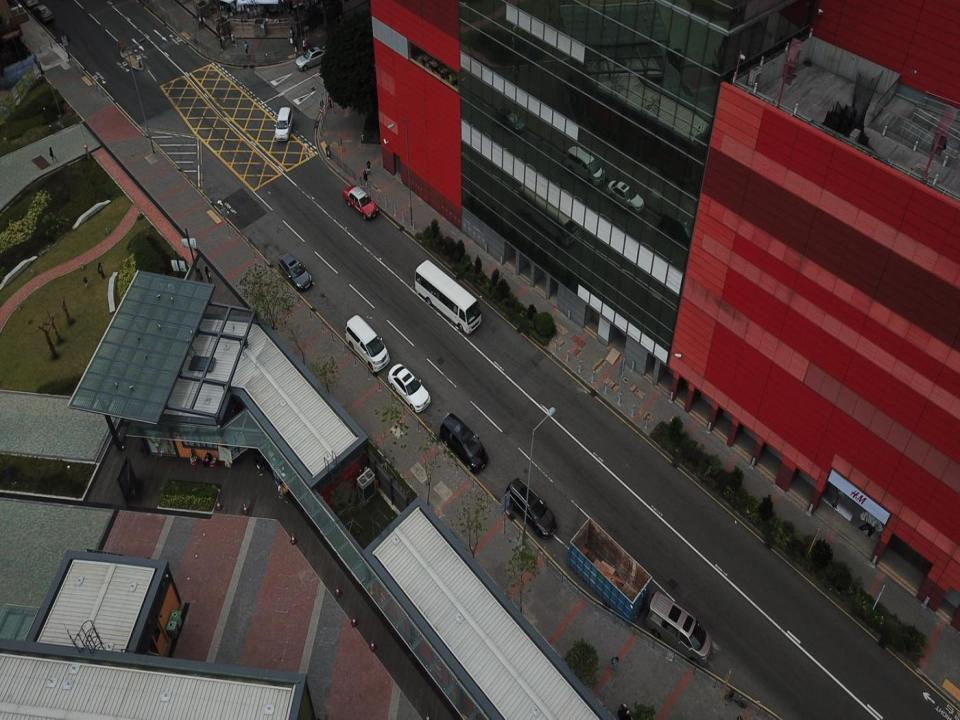bus: (414, 258, 484, 335)
car: (502, 475, 555, 535), (438, 413, 485, 473), (385, 357, 431, 413), (338, 179, 379, 222), (276, 247, 314, 292), (295, 46, 328, 70), (273, 106, 293, 140), (32, 4, 56, 26)
van: (646, 588, 714, 666), (345, 313, 389, 374)
